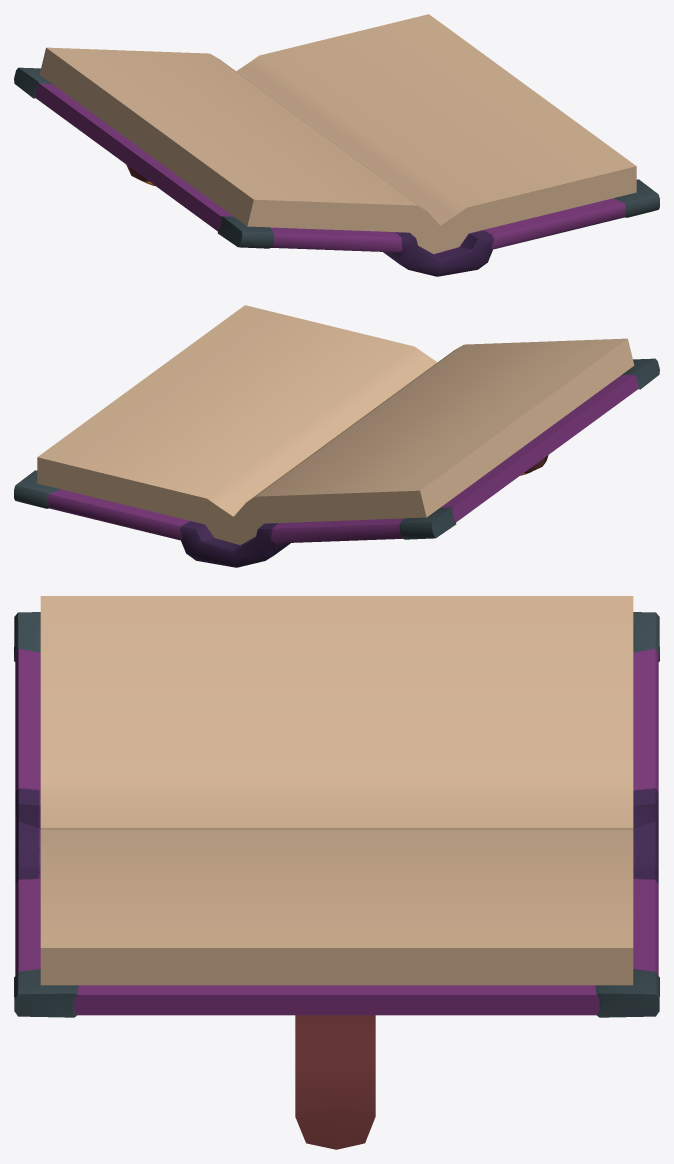
File: Grimoire.fbx
The picture shows the model from 3 angles, top to bottom: view 1: azimuth 30°, elevation 25°; view 2: azimuth 150°, elevation 25°; view 3: azimuth 270°, elevation 25°; orthographic projection. The views are drawn at different scales.
Visible parts, largest first — view 1: Grimoire; view 2: Grimoire; view 3: Grimoire.
Part boxes in pixels (x1,y1,x2,y2): Grimoire: (14, 14, 659, 276); Grimoire: (14, 305, 659, 567); Grimoire: (14, 596, 659, 1149).
Size of the model in its own units: 406 by 135 by 329.
